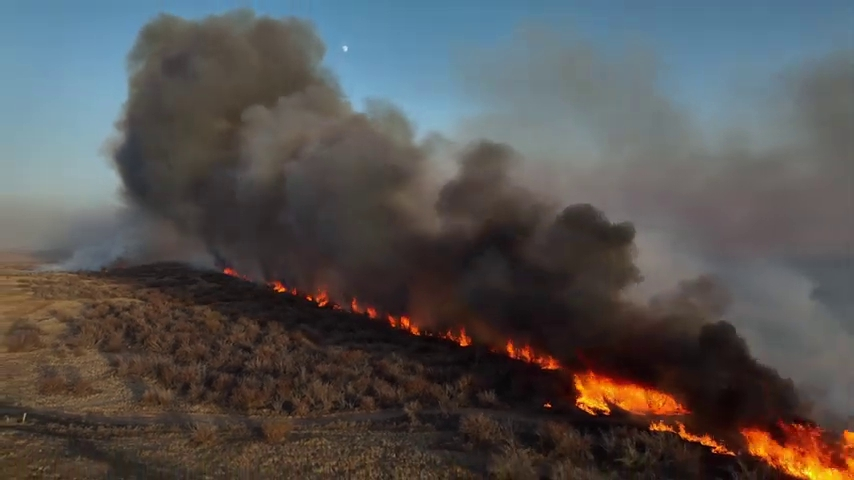forest_fire: (572, 371, 733, 453), (268, 281, 471, 345), (739, 423, 853, 479), (492, 339, 561, 368), (222, 267, 249, 279), (544, 402, 550, 407)
